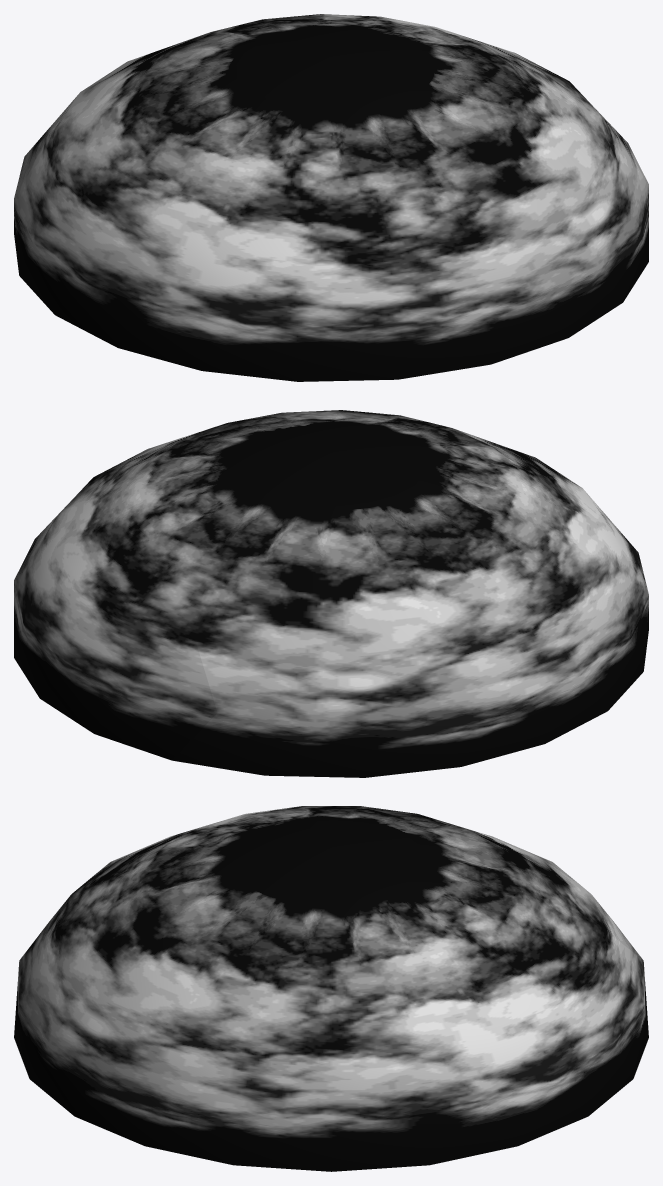
Rendered from koopa_sky_L.dae.
The picture shows the model from 3 angles, top to bottom: view 1: azimuth 30°, elevation 25°; view 2: azimuth 150°, elevation 25°; view 3: azimuth 270°, elevation 25°; orthographic projection.
Visible parts, largest first — view 1: n0b0; view 2: n0b0; view 3: n0b0.
Part boxes in pixels (bbox=[...]): n0b0: bbox=[14, 14, 648, 381]; n0b0: bbox=[14, 410, 648, 777]; n0b0: bbox=[14, 806, 648, 1171].
Size of the model in its own units: 203698 by 67061 by 203698.
Materials: 1 (1 with a texture image).
